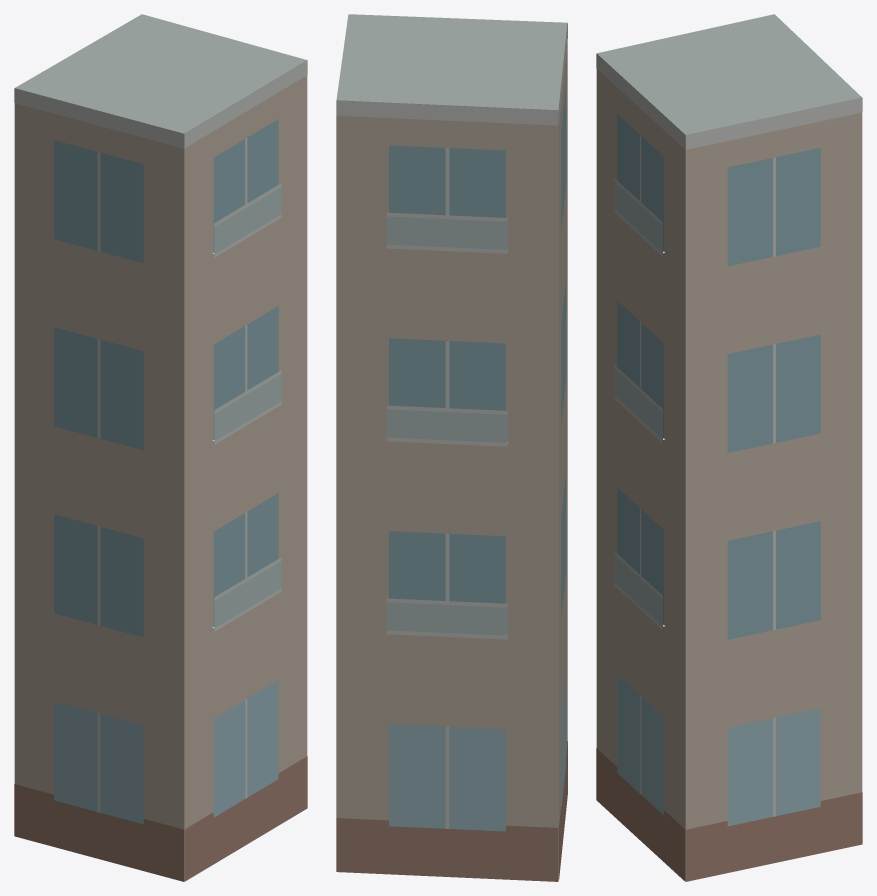
File: survey-upis-32758078.glb
3 renders of one model, left to right at view 1: azimuth 30°, elevation 25°; view 2: azimuth 150°, elevation 25°; view 3: azimuth 270°, elevation 25°, orthographic. The views are drawn at different scales.
Parts seen in each view (by area): view 1: survey-upis-32758078.tmp; view 2: survey-upis-32758078.tmp; view 3: survey-upis-32758078.tmp.
Boxes of the visible parts, x1,y1,x2,y2 form: survey-upis-32758078.tmp: (14, 14, 307, 881); survey-upis-32758078.tmp: (336, 14, 567, 881); survey-upis-32758078.tmp: (596, 14, 862, 881).
Bounding box in the file's own units: 4.25 × 12.2 × 3.95.
